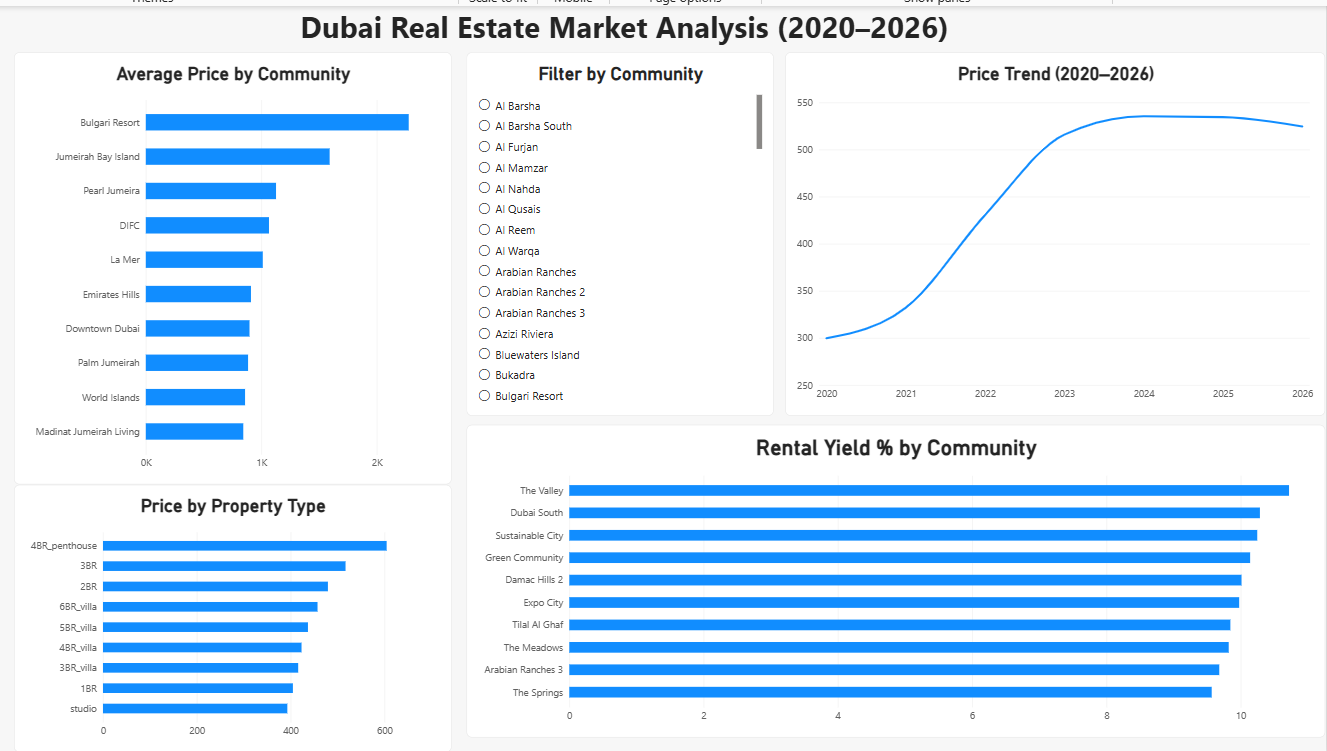

The page's visual inventory and layout, read from the dashboard file:
{"tool":"powerbi","page":{"name":"Page 1","canvas":[1920,1080],"ordinal":0},"visuals":[{"type":"clusteredBarChart","title":"Average Price by Community","fields":{"Category":["dubai_secondary_sales_cleaned (2).community"],"Y":["Avg(dubai_secondary_sales_cleaned (2).price_per_sqft_usd)"]},"box":[21.7,67,634,625.7],"z":0},{"type":"lineChart","title":"Price Trend (2020–2026)","fields":{"Category":["dubai_secondary_sales_cleaned (2).year"],"Y":["Avg(dubai_secondary_sales_cleaned (2).price_per_sqft_usd)"]},"box":[1138.3,67,781.8,526.6],"z":1},{"type":"clusteredBarChart","title":"Price by Property Type","fields":{"Category":["dubai_secondary_sales_cleaned (2).property_type"],"Y":["Avg(dubai_secondary_sales_cleaned (2).price_per_sqft_usd)"]},"box":[21.7,693.1,633.4,387.3],"z":2},{"type":"listSlicer","title":"Filter by Community","fields":{"Values":["dubai_secondary_sales_cleaned (2).community"]},"box":[676.8,67,445.2,526.6],"z":3},{"type":"clusteredBarChart","title":"Rental Yield % by Community","fields":{"Category":["dubai_secondary_sales_cleaned (2).community"],"Y":["rentals.Rental Yield %"]},"box":[676.8,606.2,1243.2,452.4],"z":4},{"type":"textbox","box":[144.8,0,1521.9,61.5],"z":5}]}

Visuals, with their boxes on the page's 1920x1080 design canvas (x1, y1, x2, y2). These are canvas units, not pixel positions in the 1327x751 screenshot, which may show the page scaled, cropped or inside an application window:
"Average Price by Community" clusteredBarChart: locate(22, 67, 656, 693)
"Price Trend (2020–2026)" lineChart: locate(1138, 67, 1920, 594)
"Price by Property Type" clusteredBarChart: locate(22, 693, 655, 1080)
"Filter by Community" listSlicer: locate(677, 67, 1122, 594)
"Rental Yield % by Community" clusteredBarChart: locate(677, 606, 1920, 1059)
textbox: locate(145, 0, 1667, 62)
